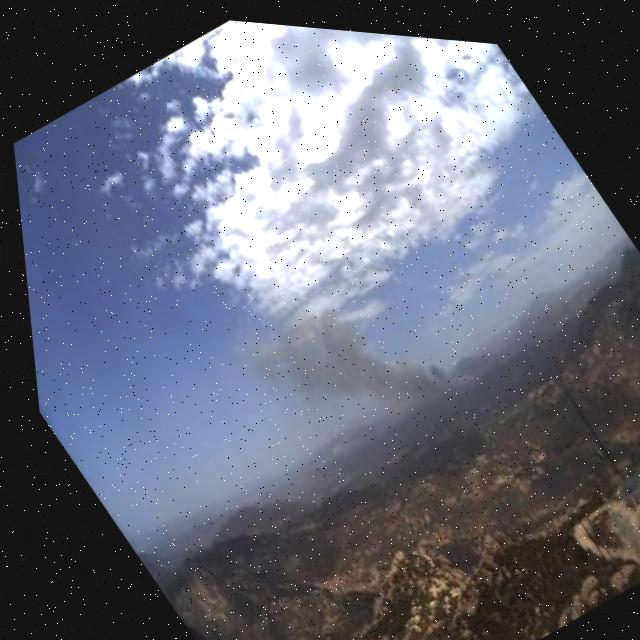Smoke: (184, 181, 520, 510)
